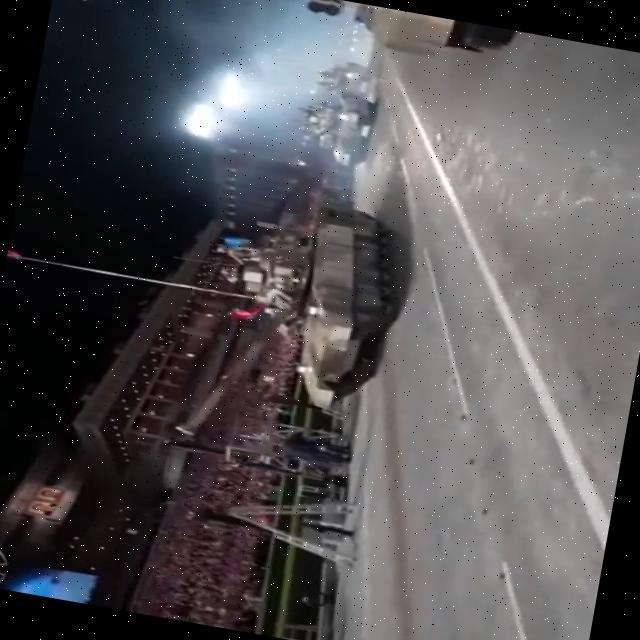north tank: (162, 169, 436, 477), (270, 74, 395, 188)
